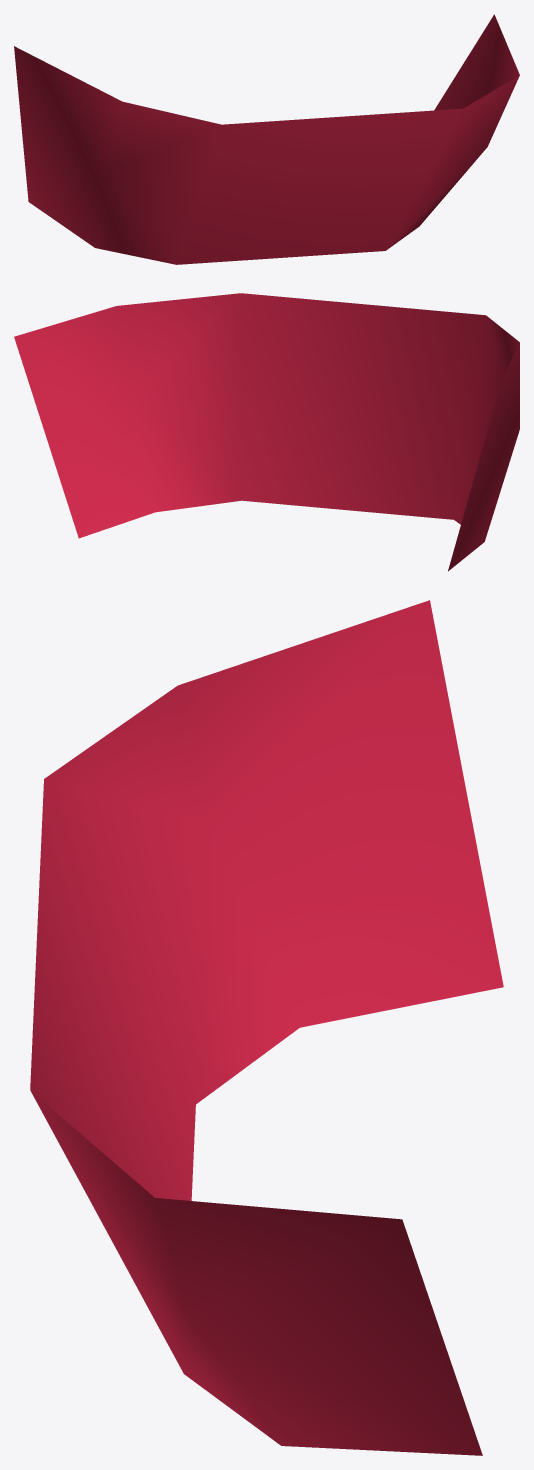
3 views of the same model, one above another, from view 1: azimuth 30°, elevation 25°; view 2: azimuth 150°, elevation 25°; view 3: azimuth 270°, elevation 25° (orthographic). The views are drawn at different scales.
Visible parts, largest first — view 1: ef_485; view 2: ef_485; view 3: ef_485.
Part boxes in pixels (box(x1,y1,x2,y2)): ef_485: box(14, 14, 519, 264); ef_485: box(14, 293, 519, 571); ef_485: box(30, 600, 503, 1455).
Size of the model in its own units: 0.6762 by 0.3318 by 0.2929.
1 material, 1 textured.
